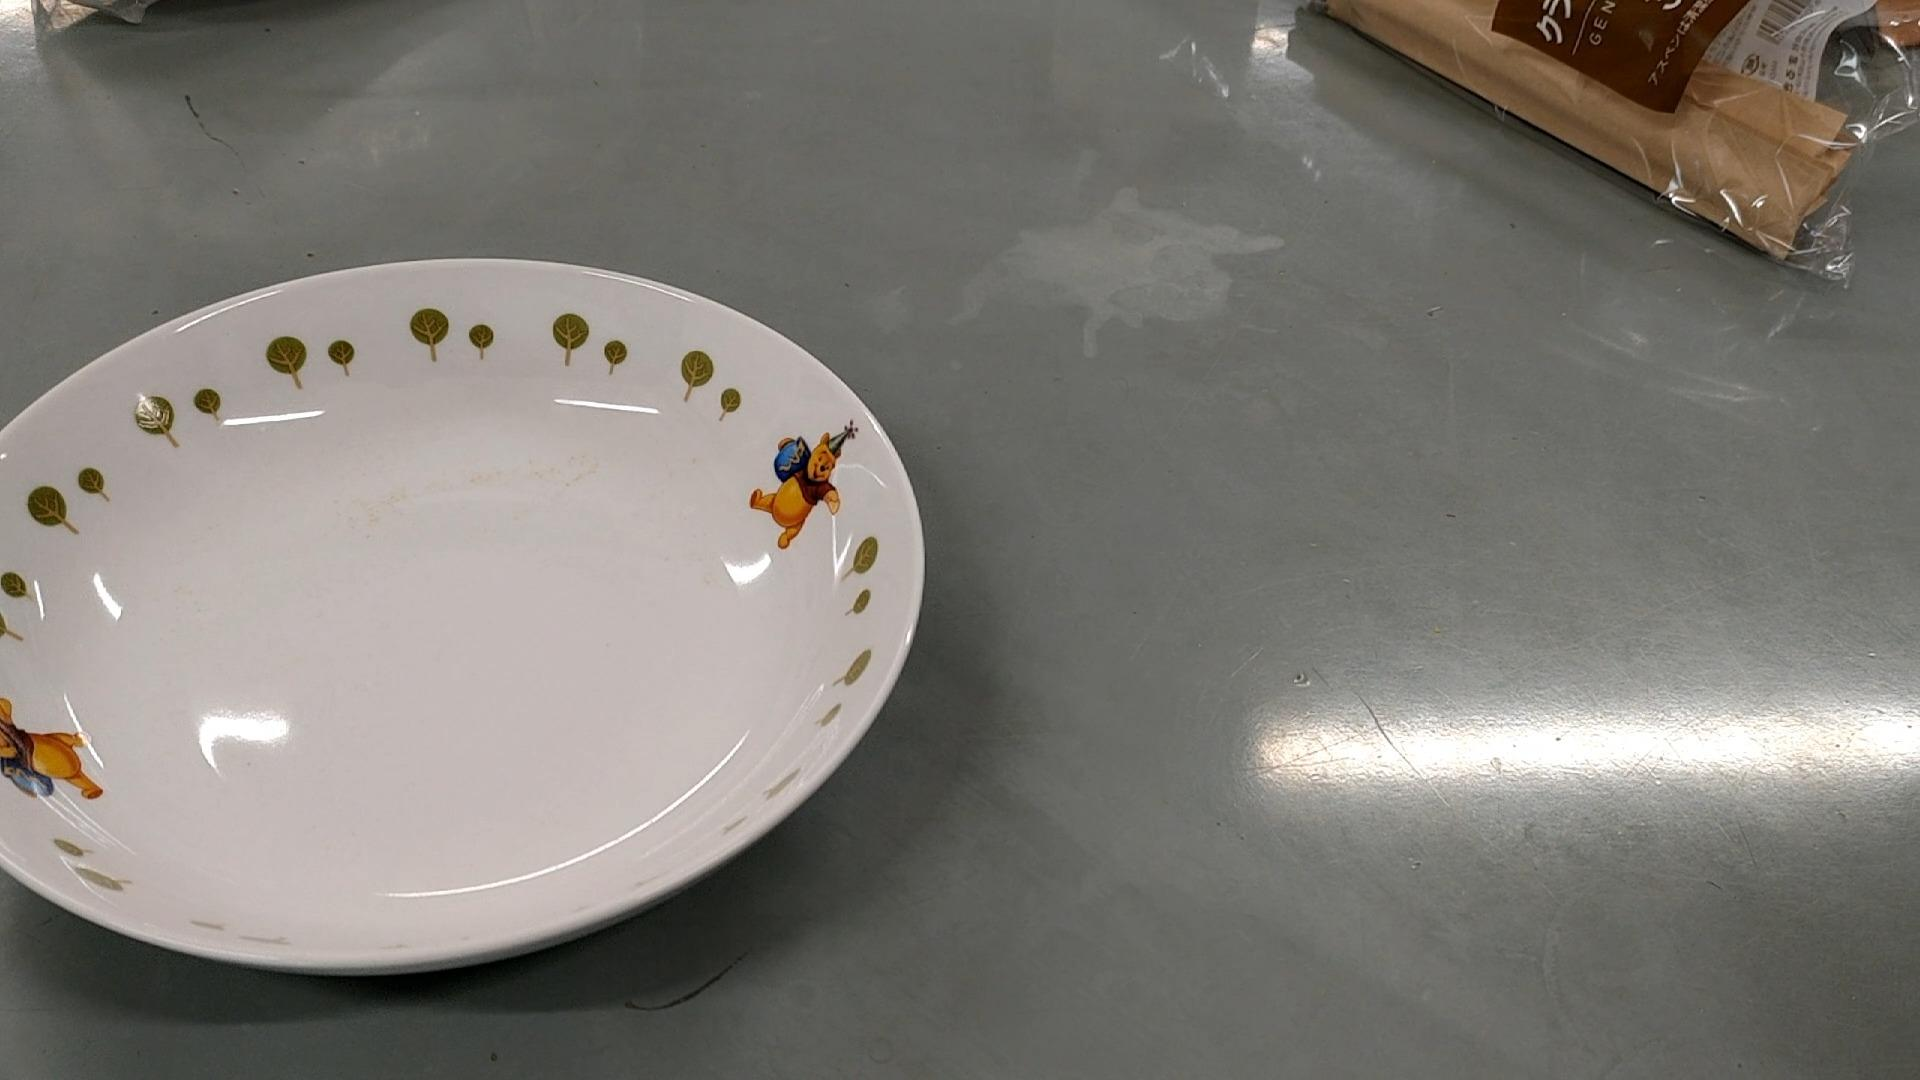plate: (0, 251, 927, 988)
